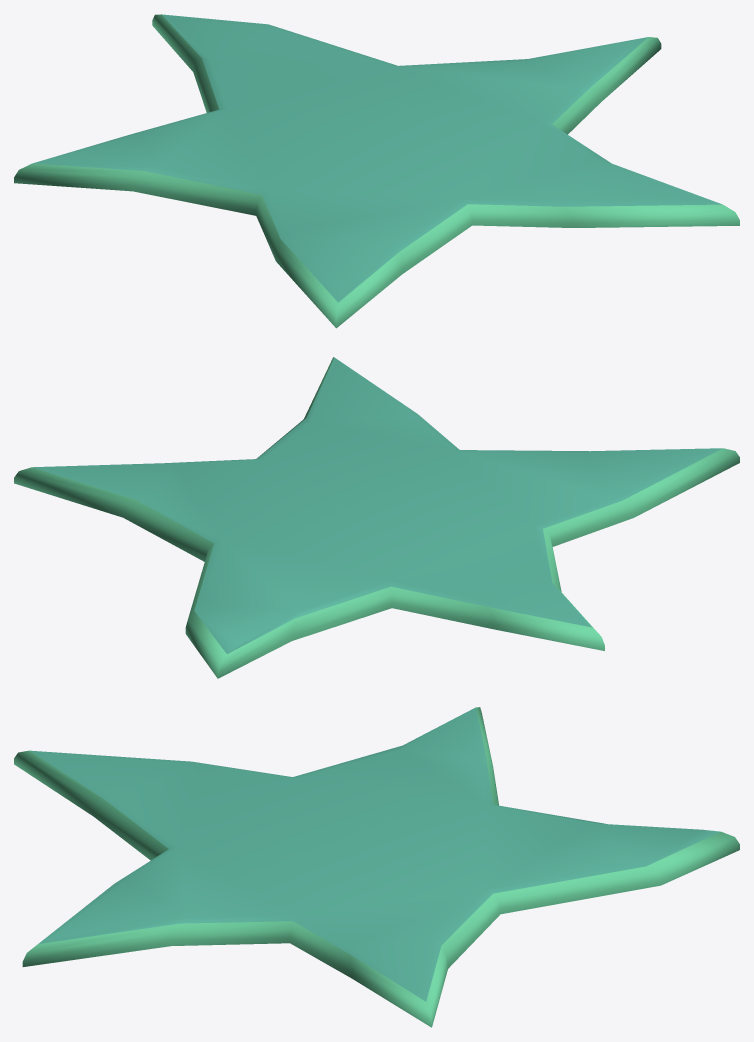
Rendered from estrelamar01.fbx.
3 renders of one model, top to bottom at view 1: azimuth 30°, elevation 25°; view 2: azimuth 150°, elevation 25°; view 3: azimuth 270°, elevation 25°, orthographic. The views are drawn at different scales.
Parts seen in each view (by area): view 1: estrelamar01; view 2: estrelamar01; view 3: estrelamar01.
Part boxes in pixels (left/top/right/bottom): estrelamar01: left=14, top=14, right=739, bottom=328; estrelamar01: left=14, top=357, right=739, bottom=678; estrelamar01: left=14, top=707, right=739, bottom=1027.
Size of the model in its own units: 12.74 by 0.3905 by 12.62.
